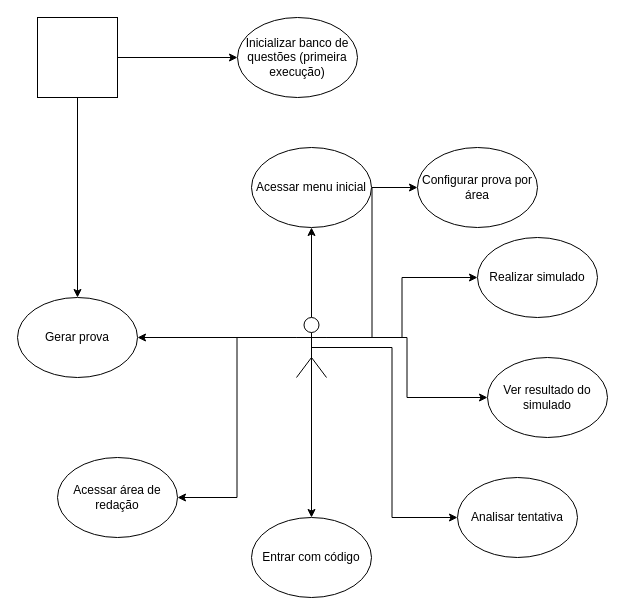
This 625x615 diagram has some shape labels left out. The shapes that lost their labels are listed below. From the top down, each one's centre as x and y in pixels, then its label:
At (x=77, y=57): "Sistema".
At (x=311, y=347): "Usuário".
